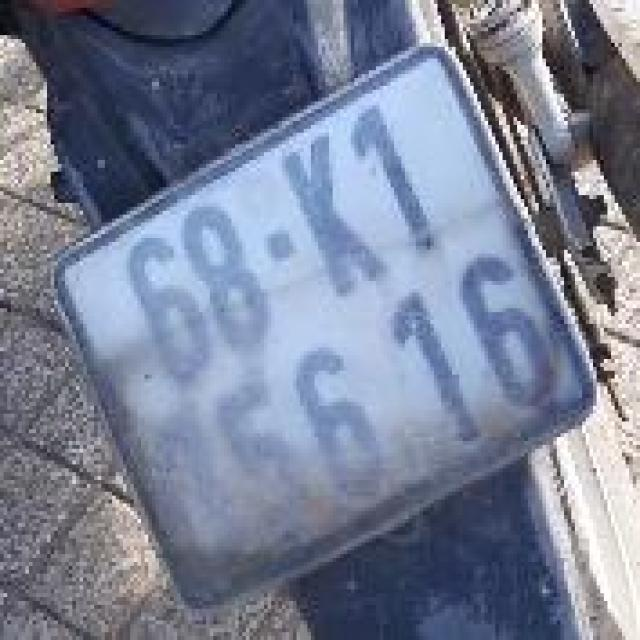1: (377, 273, 498, 470), (336, 82, 460, 273)
5: (211, 355, 331, 553)
6: (443, 234, 571, 424), (106, 218, 229, 403), (278, 333, 403, 513)
7: (140, 385, 265, 582)
8: (165, 177, 296, 373)
K: (265, 121, 396, 309)
